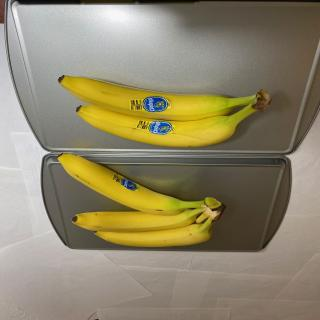Chilli: (56, 152, 225, 221), (75, 91, 271, 148), (57, 74, 272, 121)
